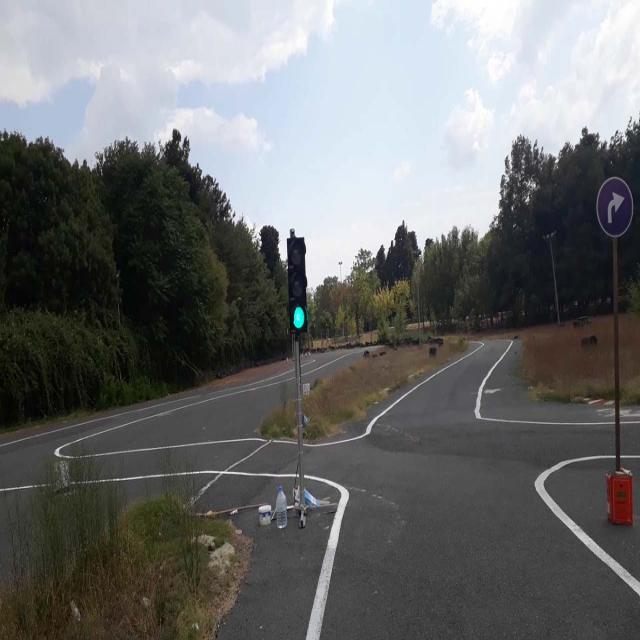sag: (598, 177, 632, 234)
yesil: (288, 234, 306, 330)
